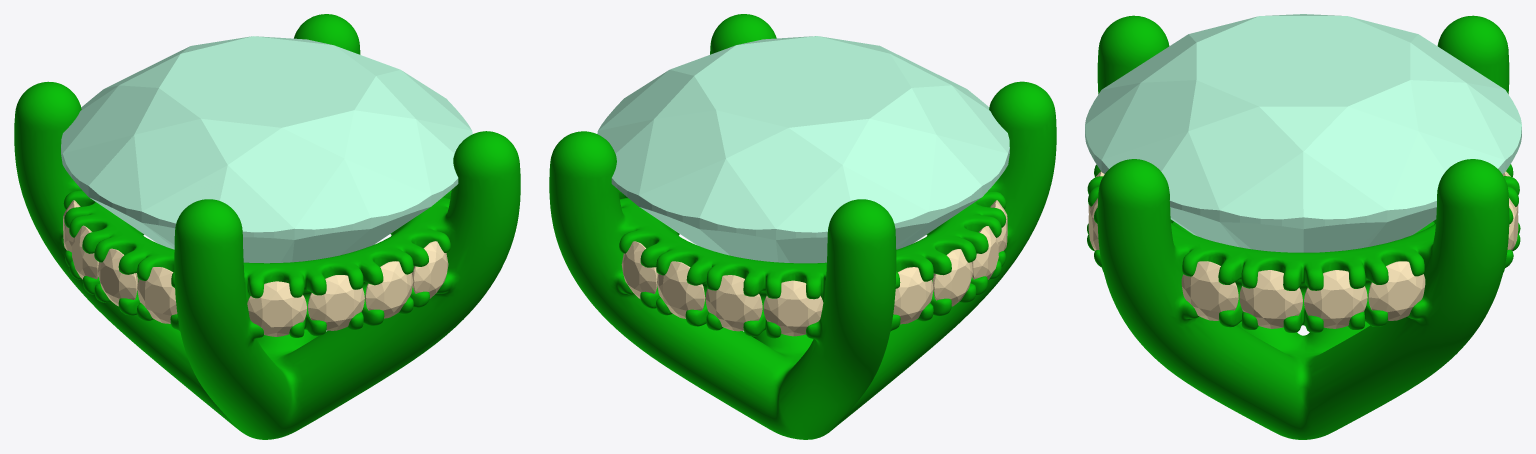
3 renders of one model, left to right at view 1: azimuth 30°, elevation 25°; view 2: azimuth 150°, elevation 25°; view 3: azimuth 270°, elevation 25°, orthographic. The views are drawn at different scales.
Parts seen in each view (by area): view 1: Metal01, CS_Diamond, Diamond_Round.015, Diamond_Round.012, Diamond_Round.013, Diamond_Round.001, Diamond_Round.002, Diamond_Round.014, Diamond_Round.003; view 2: Metal01, CS_Diamond, Diamond_Round.004, Diamond_Round.005, Diamond_Round.006, Diamond_Round, Diamond_Round.003, Diamond_Round.007, Diamond_Round.002; view 3: CS_Diamond, Metal01, Diamond_Round.010, Diamond_Round.009, Diamond_Round.008, Diamond_Round.011.
Part boxes in pixels (bbox=[...]): Metal01: bbox=[14, 14, 520, 439]; CS_Diamond: bbox=[61, 36, 472, 263]; Diamond_Round.015: bbox=[247, 281, 306, 336]; Diamond_Round.012: bbox=[307, 275, 364, 330]; Diamond_Round.013: bbox=[365, 261, 413, 318]; Diamond_Round.001: bbox=[137, 267, 177, 323]; Diamond_Round.002: bbox=[98, 248, 138, 306]; Diamond_Round.014: bbox=[411, 241, 448, 298]; Diamond_Round.003: bbox=[72, 225, 98, 279]; Metal01: bbox=[549, 14, 1056, 439]; CS_Diamond: bbox=[597, 36, 1009, 263]; Diamond_Round.004: bbox=[763, 280, 823, 336]; Diamond_Round.005: bbox=[705, 275, 762, 331]; Diamond_Round.006: bbox=[657, 261, 705, 318]; Diamond_Round: bbox=[893, 267, 933, 324]; Diamond_Round.003: bbox=[932, 249, 972, 306]; Diamond_Round.007: bbox=[621, 241, 658, 298]; Diamond_Round.002: bbox=[972, 226, 998, 279]; CS_Diamond: bbox=[1085, 14, 1521, 252]; Metal01: bbox=[1087, 15, 1520, 439]; Diamond_Round.010: bbox=[1239, 270, 1302, 328]; Diamond_Round.009: bbox=[1304, 270, 1367, 328]; Diamond_Round.008: bbox=[1368, 261, 1425, 320]; Diamond_Round.011: bbox=[1181, 261, 1238, 320].
Size of the model in its own units: 7.5 by 7.02 by 7.5.
